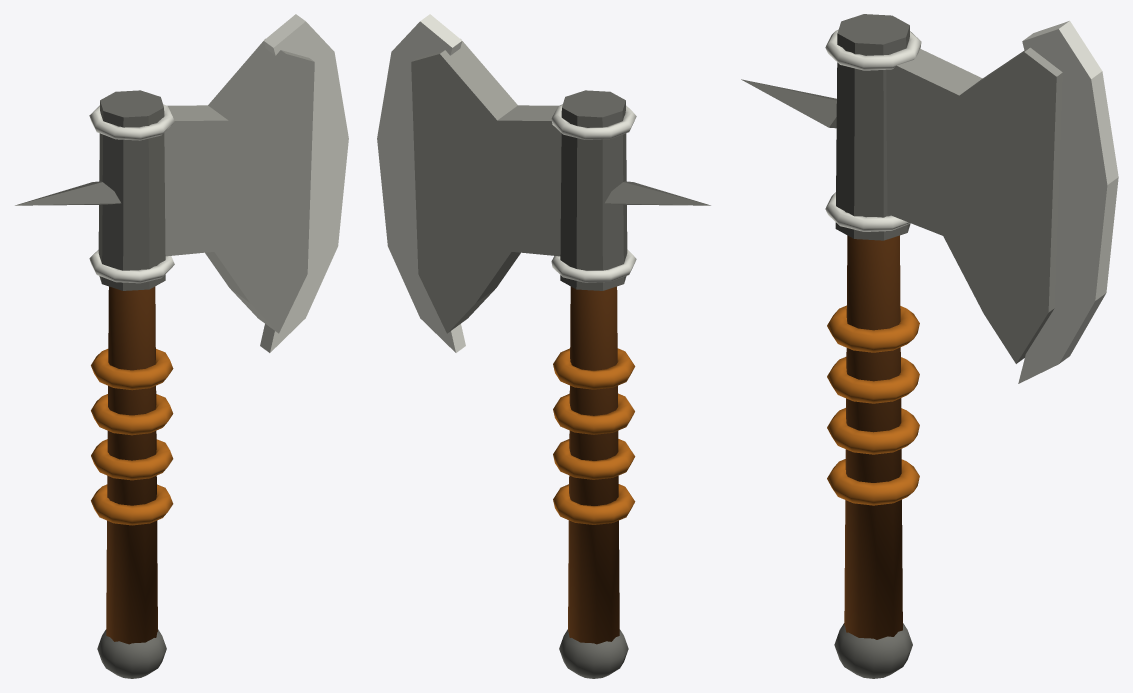
File: hache-bworker.glb
The picture shows the model from 3 angles, left to right: view 1: azimuth 30°, elevation 25°; view 2: azimuth 150°, elevation 25°; view 3: azimuth 330°, elevation 25°; orthographic projection. The views are drawn at different scales.
Visible parts, largest first — view 1: fer.001, manche.001, oeil, tranchant, pommeau.001, cuir.007, cuir.005, cuir.006, cuir.004, pic, rivet.001, rivet; view 2: fer.001, manche.001, oeil, tranchant, pommeau.001, cuir.007, cuir.006, cuir.005, cuir.004, pic, rivet.001, rivet; view 3: fer.001, tranchant, manche.001, oeil, pommeau.001, cuir.007, cuir.006, cuir.005, cuir.004, pic, rivet.001, rivet.
Part boxes in pixels (x1=…): fer.001: x1=164, y1=39, x2=314, y2=333; manche.001: x1=106, y1=286, x2=157, y2=644; oeil: x1=98, y1=90, x2=165, y2=290; tranchant: x1=260, y1=14, x2=348, y2=352; pommeau.001: x1=97, y1=629, x2=166, y2=678; cuir.007: x1=91, y1=349, x2=173, y2=390; cuir.005: x1=91, y1=439, x2=173, y2=480; cuir.006: x1=91, y1=394, x2=173, y2=435; cuir.004: x1=91, y1=484, x2=173, y2=525; pic: x1=15, y1=181, x2=120, y2=205; rivet.001: x1=89, y1=104, x2=174, y2=140; rivet: x1=89, y1=250, x2=174, y2=283; fer.001: x1=411, y1=39, x2=561, y2=333; manche.001: x1=568, y1=286, x2=619, y2=644; oeil: x1=560, y1=90, x2=627, y2=290; tranchant: x1=377, y1=14, x2=465, y2=352; pommeau.001: x1=559, y1=629, x2=628, y2=678; cuir.007: x1=553, y1=348, x2=635, y2=389; cuir.006: x1=553, y1=393, x2=634, y2=434; cuir.005: x1=553, y1=439, x2=635, y2=479; cuir.004: x1=553, y1=484, x2=635, y2=524; pic: x1=605, y1=181, x2=710, y2=205; rivet.001: x1=551, y1=104, x2=636, y2=139; rivet: x1=551, y1=249, x2=636, y2=282; fer.001: x1=886, y1=47, x2=1062, y2=363; tranchant: x1=1018, y1=21, x2=1118, y2=383; manche.001: x1=844, y1=235, x2=902, y2=639; oeil: x1=835, y1=14, x2=910, y2=240; pommeau.001: x1=834, y1=623, x2=912, y2=678; cuir.007: x1=827, y1=305, x2=919, y2=352; cuir.006: x1=827, y1=357, x2=919, y2=403; cuir.005: x1=827, y1=408, x2=919, y2=454; cuir.004: x1=827, y1=459, x2=919, y2=505; pic: x1=741, y1=79, x2=836, y2=128; rivet.001: x1=825, y1=29, x2=921, y2=70; rivet: x1=825, y1=192, x2=910, y2=231.
Bounding box in the file's own units: 0.4594 × 0.82 × 0.0996.
